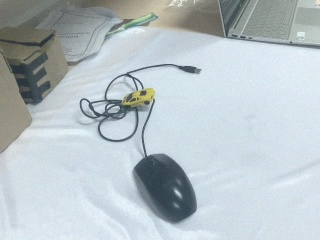box: (1, 24, 69, 105), (1, 42, 33, 164)
mouse: (132, 153, 197, 224)
toy_car: (118, 86, 160, 109)
